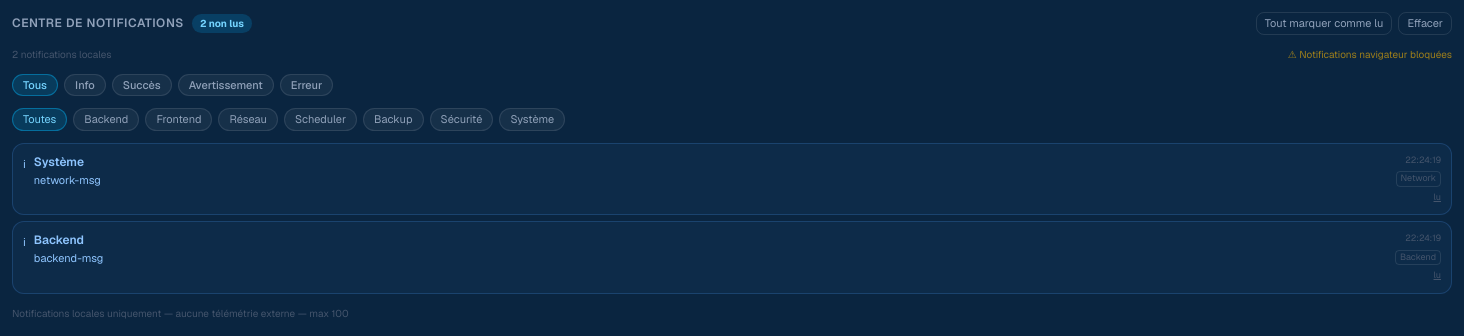
Test: NotificationsCenterPanel — filtres source › filtre par source backend
This screenshot has width=1464, height=336.
Click the button "Backend". click: (106, 119)
box: [73,108,139,130]
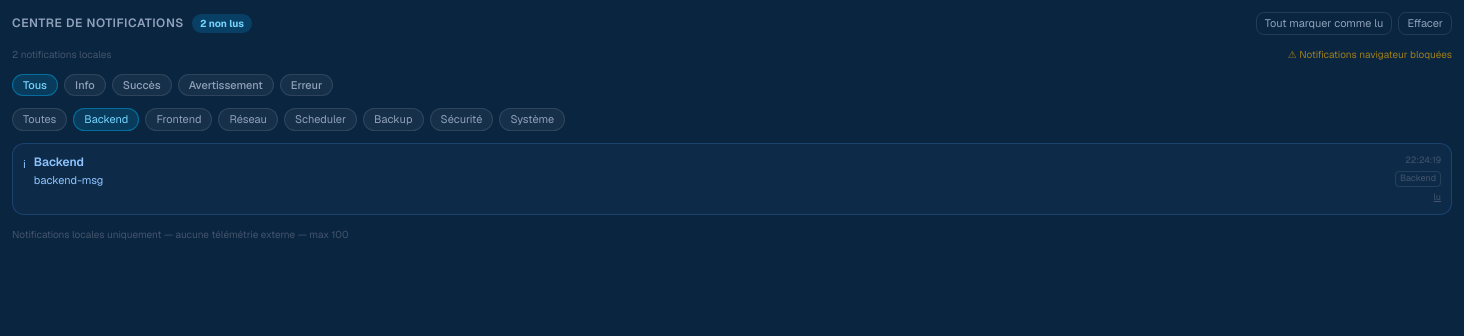
Check: the text "backend-msg" is shown, box [34,172,103,188]
Check: the text "network-msg" is gone
